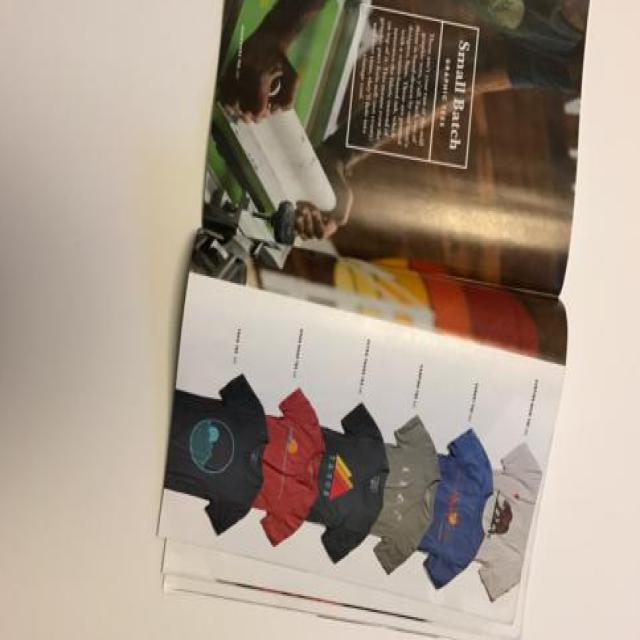kertas: (156, 0, 592, 640)
